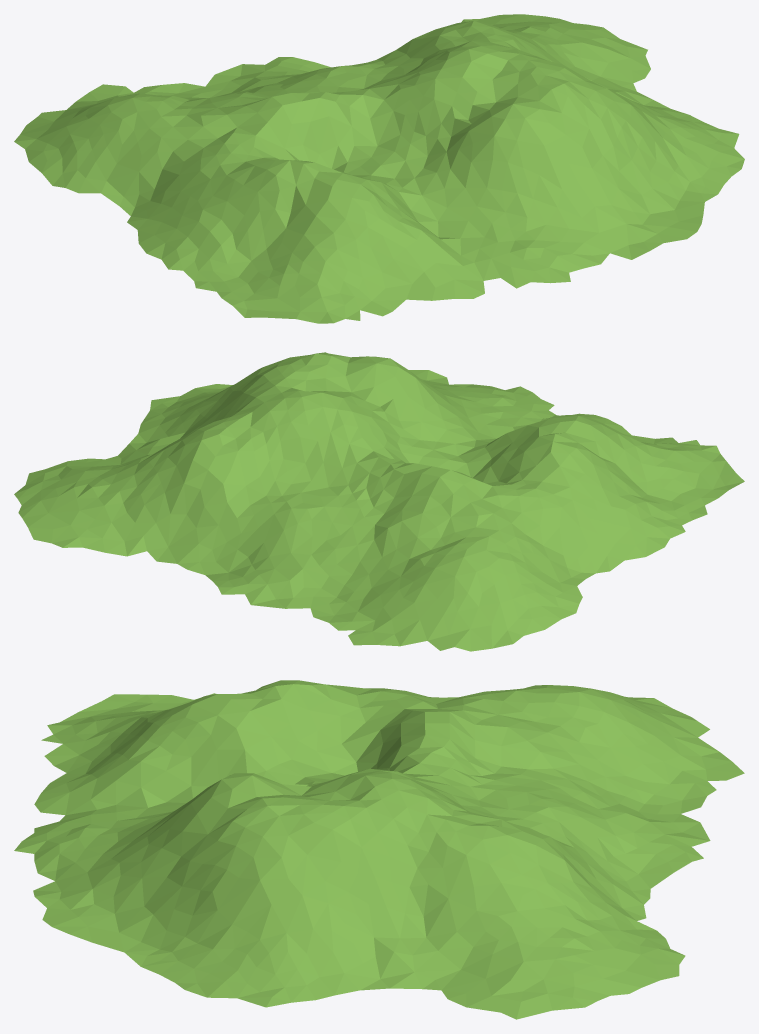
Rendered from MT_Mountain_L_a_15.fbx.
3 renders of one model, top to bottom at view 1: azimuth 30°, elevation 25°; view 2: azimuth 150°, elevation 25°; view 3: azimuth 270°, elevation 25°, orthographic. The views are drawn at different scales.
Visible parts, largest first — view 1: MT_Mountain_L_a_15; view 2: MT_Mountain_L_a_15; view 3: MT_Mountain_L_a_15.
Boxes of the visible parts, <box> form: MT_Mountain_L_a_15: <box>14,14,744,323</box>; MT_Mountain_L_a_15: <box>14,352,744,651</box>; MT_Mountain_L_a_15: <box>14,680,744,1019</box>.
Bounding box in the file's own units: 9606 × 1601 × 9121.
